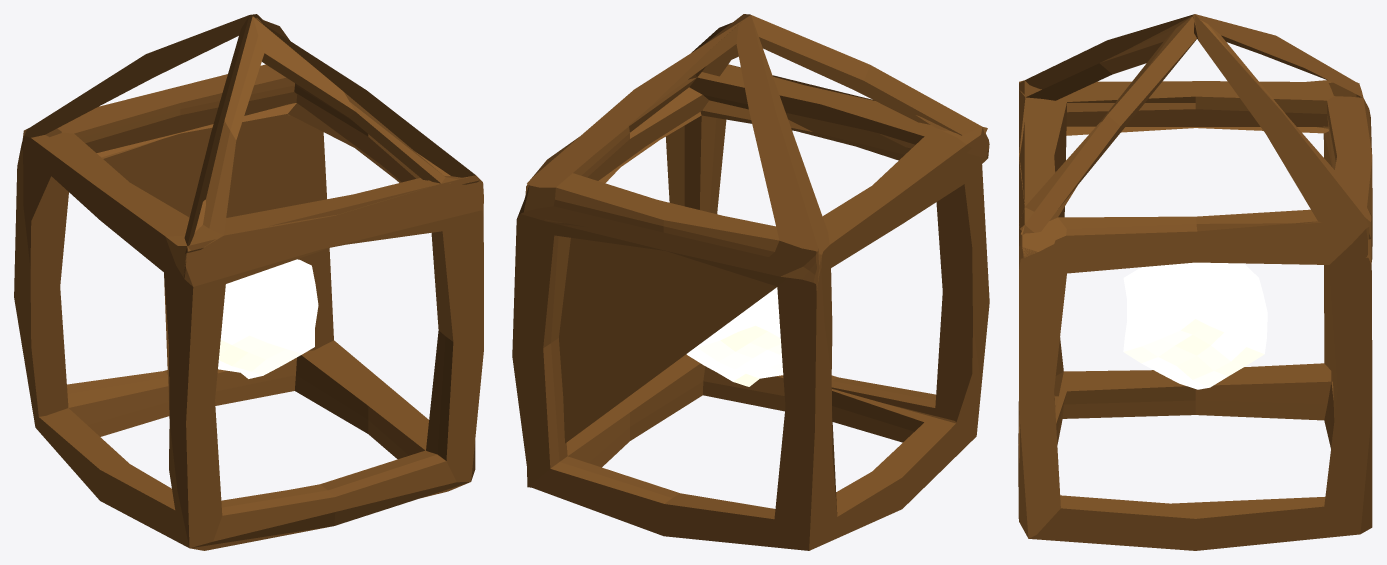
The model's file is lampa_z_malym_gwintem.fbx.
3 renders of one model, left to right at view 1: azimuth 30°, elevation 25°; view 2: azimuth 150°, elevation 25°; view 3: azimuth 270°, elevation 25°, orthographic. The views are drawn at different scales.
Parts seen in each view (by area): view 1: Cube.001, Cube; view 2: Cube.001, Cube; view 3: Cube.001, Cube.
Part boxes in pixels (x1,y1,x2,y2): Cube.001: (14, 14, 483, 550); Cube: (218, 259, 318, 378); Cube.001: (512, 14, 989, 550); Cube: (686, 287, 783, 386); Cube.001: (1018, 14, 1372, 550); Cube: (1123, 262, 1267, 389).
Bounding box in the file's own units: 200 × 289 × 201.
